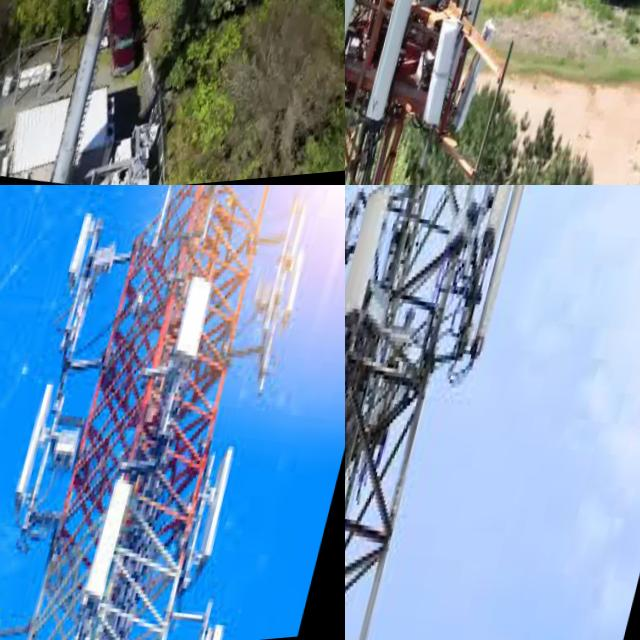GSM Antenna: (464, 185, 539, 390), (360, 0, 430, 137), (444, 26, 510, 158), (345, 185, 399, 345), (85, 476, 142, 607), (14, 385, 66, 524), (413, 22, 471, 139), (199, 452, 247, 574), (168, 276, 224, 379), (476, 185, 528, 275), (345, 0, 379, 114), (65, 214, 103, 299), (281, 249, 319, 331), (199, 618, 237, 640)
